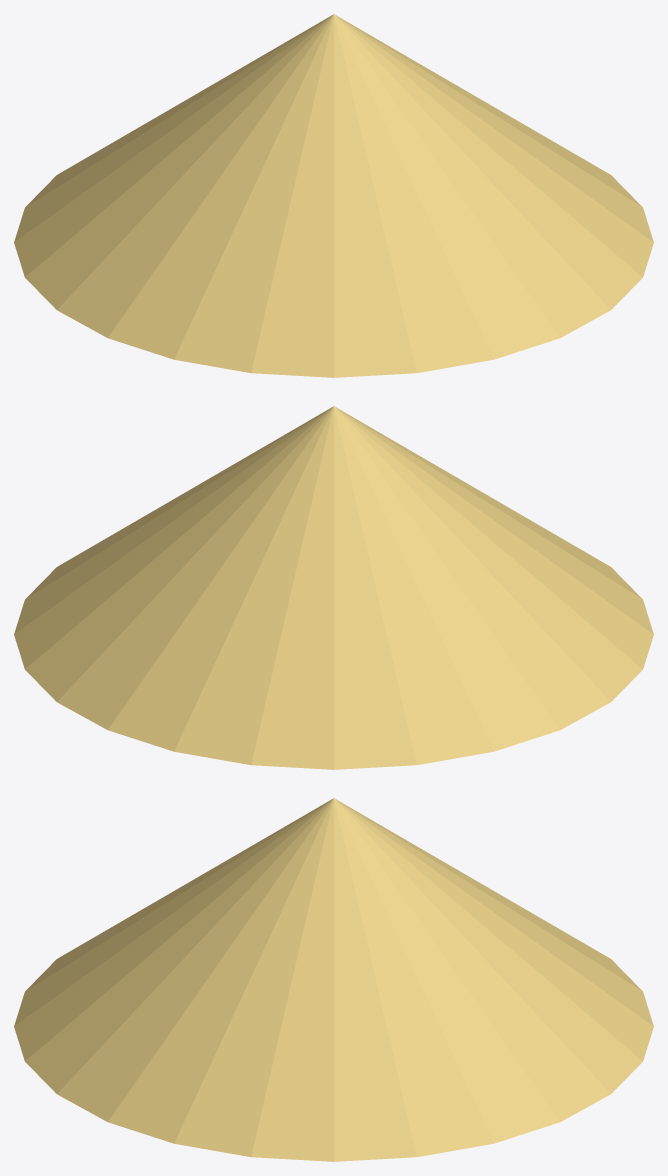
Rendered from non-la.glb.
3 renders of one model, top to bottom at view 1: azimuth 30°, elevation 25°; view 2: azimuth 150°, elevation 25°; view 3: azimuth 270°, elevation 25°, orthographic.
Parts seen in each view (by area): view 1: non-la; view 2: non-la; view 3: non-la.
Boxes of the visible parts, x1,y1,x2,y2 form: non-la: (14, 14, 653, 377); non-la: (14, 406, 653, 769); non-la: (14, 798, 653, 1161).
Size of the model in its own units: 0.66 by 0.26 by 0.66.
